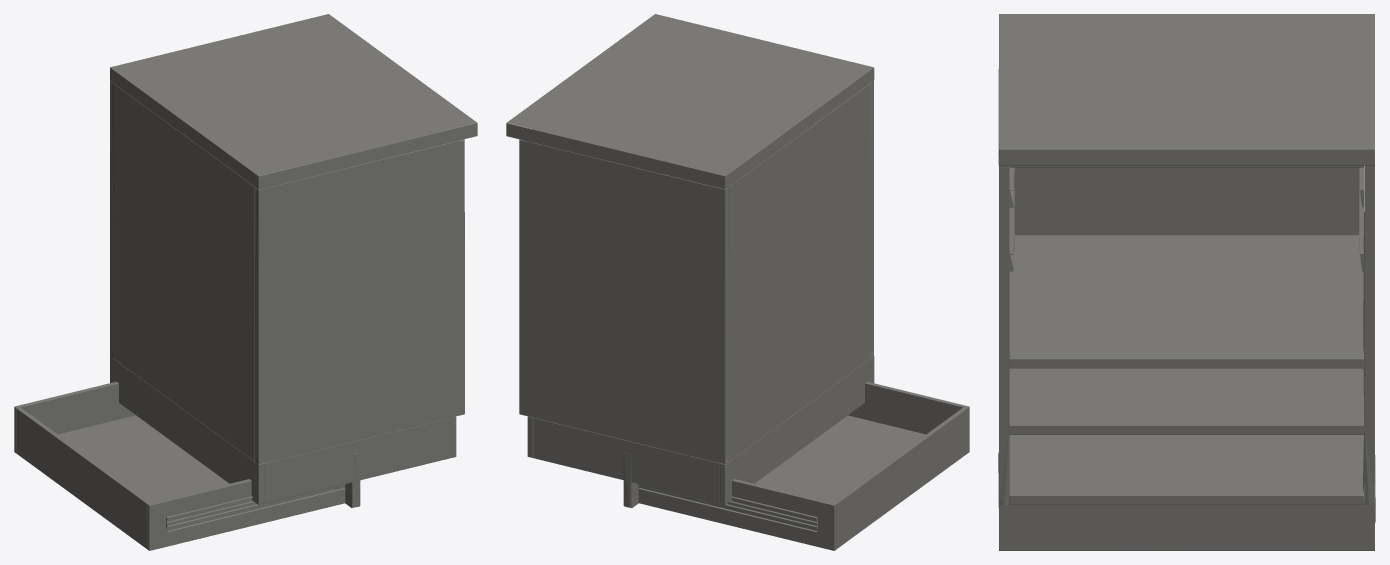
Rendered from fixture_cabinet_b01.glb.
3 views of the same model, side by side, from view 1: azimuth 30°, elevation 25°; view 2: azimuth 150°, elevation 25°; view 3: azimuth 270°, elevation 25° (orthographic). The views are drawn at different scales.
Visible parts, largest first — view 1: geometry_0; view 2: geometry_0; view 3: geometry_0.
Part boxes in pixels (x1,y1,x2,y2): geometry_0: (14,14,477,550); geometry_0: (506,14,969,550); geometry_0: (998,14,1375,550).
Bounding box in the file's own units: 0.3978 × 0.42 × 0.3201.
1 material, 1 textured.
